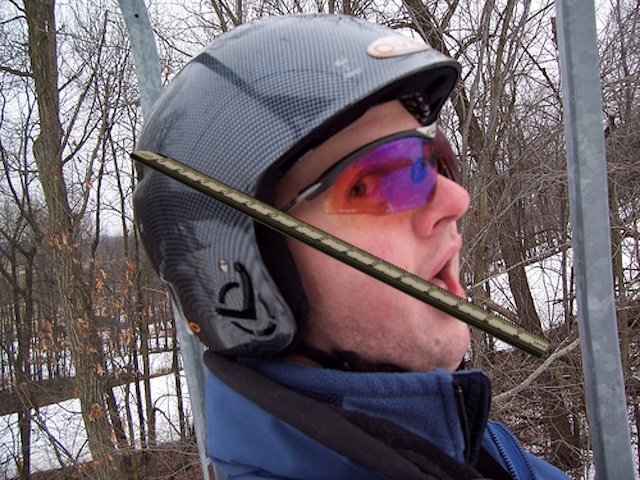ruler: (128, 144, 560, 368)
